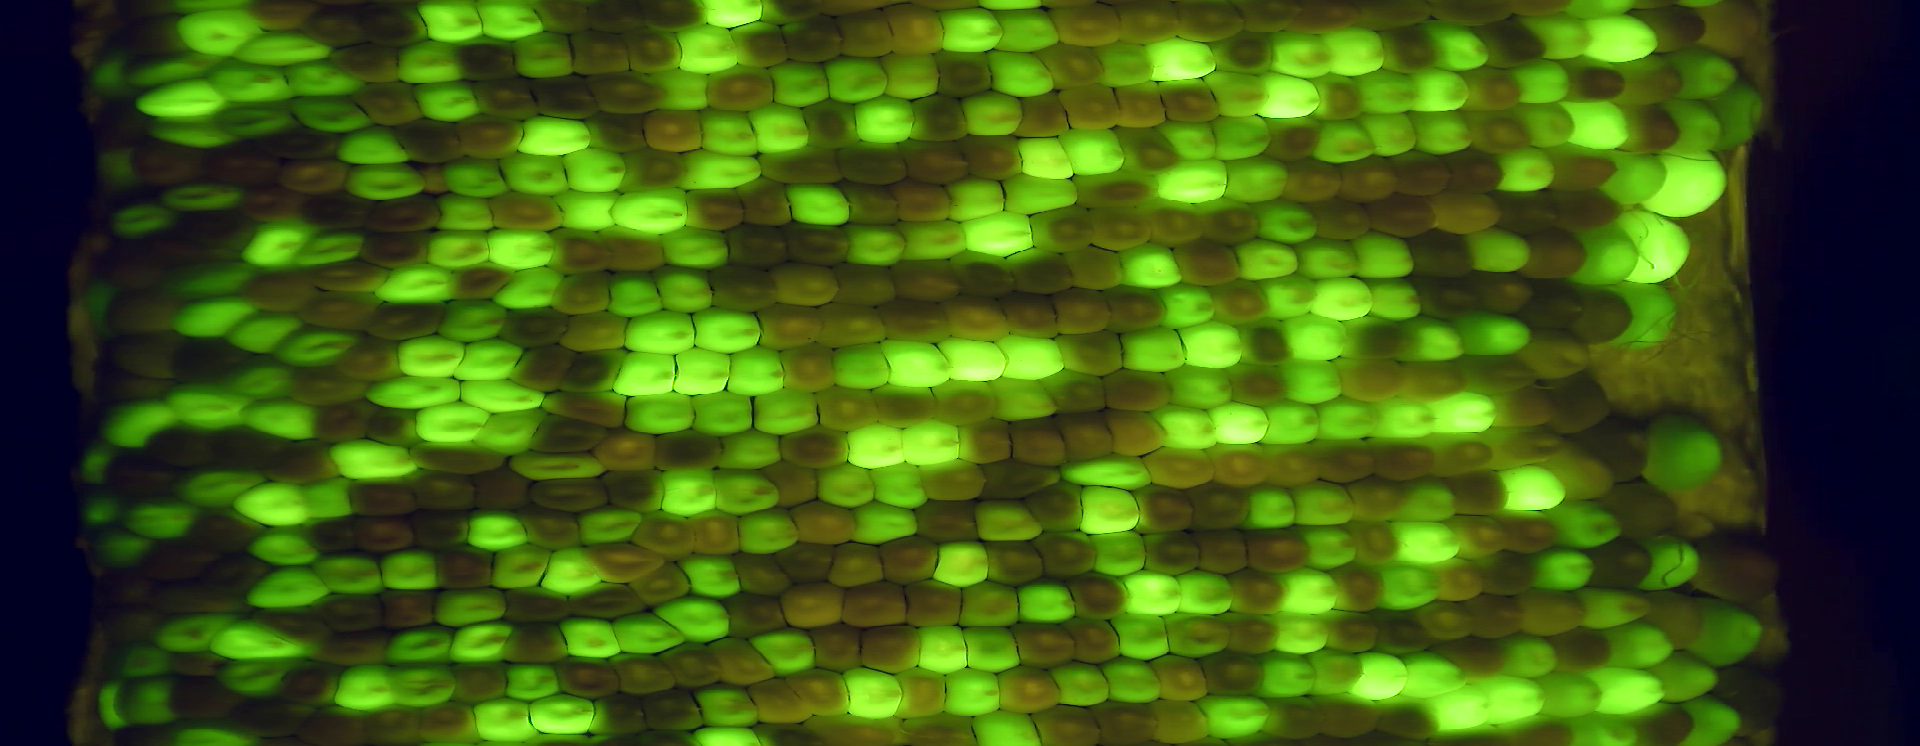fluorescent: (1644, 416, 1727, 495), (1616, 207, 1693, 285), (1687, 598, 1764, 668), (1654, 149, 1729, 219), (207, 619, 322, 661), (1611, 284, 1682, 350), (1588, 664, 1667, 718), (274, 321, 365, 367), (204, 55, 295, 102), (173, 10, 263, 56), (1647, 647, 1722, 703), (609, 185, 694, 234), (324, 435, 421, 478), (878, 336, 951, 391), (958, 208, 1041, 256), (167, 383, 253, 429), (152, 612, 244, 655), (687, 307, 769, 355), (1605, 149, 1671, 208), (680, 146, 765, 191), (549, 187, 634, 232), (138, 82, 238, 120), (1578, 224, 1640, 285), (1074, 483, 1145, 535), (504, 448, 610, 484), (1419, 20, 1491, 71), (988, 45, 1056, 100), (244, 566, 336, 606), (1544, 502, 1624, 549), (284, 92, 372, 134), (231, 481, 315, 526), (1635, 537, 1702, 590), (1586, 12, 1658, 62), (171, 299, 258, 341), (1671, 47, 1740, 99), (142, 113, 244, 148), (509, 32, 583, 81), (782, 179, 856, 228), (229, 307, 306, 354), (696, 104, 760, 159), (1558, 99, 1629, 149), (1193, 693, 1273, 737), (247, 219, 316, 271), (743, 104, 812, 156), (1665, 96, 1727, 153), (1573, 586, 1656, 628), (103, 402, 176, 450), (1113, 243, 1187, 290), (1091, 42, 1164, 89), (1453, 312, 1533, 356), (655, 597, 732, 642), (1145, 37, 1220, 83), (118, 496, 201, 538), (714, 464, 782, 514), (1270, 28, 1333, 82), (1164, 365, 1238, 412), (938, 334, 1008, 383), (175, 467, 268, 503), (1002, 173, 1081, 216), (501, 151, 572, 198), (1314, 394, 1385, 442), (749, 628, 820, 676), (1224, 156, 1292, 206), (1540, 669, 1603, 723), (1524, 12, 1597, 59), (1478, 676, 1550, 723), (842, 668, 906, 720), (1370, 563, 1446, 608), (1060, 126, 1127, 176), (216, 658, 300, 697), (609, 612, 686, 655), (1104, 612, 1176, 659), (612, 348, 680, 397), (1254, 69, 1321, 118), (1600, 624, 1675, 668), (653, 263, 716, 315), (1157, 159, 1229, 205), (240, 399, 321, 440), (408, 81, 486, 122), (456, 379, 547, 414), (280, 59, 372, 94), (670, 348, 735, 398), (943, 174, 1008, 224), (496, 268, 572, 311), (675, 27, 744, 73), (994, 7, 1064, 54), (1676, 699, 1746, 746), (364, 375, 462, 408), (228, 352, 294, 401), (658, 465, 724, 514), (1155, 404, 1222, 452), (1177, 323, 1244, 371), (658, 227, 732, 269), (1059, 457, 1160, 489), (343, 162, 430, 198), (1253, 197, 1321, 244), (958, 89, 1026, 136), (396, 334, 468, 379), (624, 310, 697, 354), (398, 40, 470, 85), (490, 541, 555, 590), (413, 404, 493, 443), (247, 529, 328, 568), (418, 1, 487, 47), (173, 263, 256, 301), (312, 555, 388, 597), (756, 388, 822, 436), (1311, 119, 1378, 167), (1401, 318, 1467, 366), (540, 544, 602, 594), (474, 410, 545, 454), (822, 56, 893, 100), (1390, 521, 1461, 565), (1409, 105, 1473, 154), (960, 624, 1024, 673), (294, 477, 358, 526), (1278, 359, 1347, 404), (936, 6, 1004, 51), (1400, 650, 1468, 696), (676, 552, 744, 598), (447, 620, 516, 665), (1352, 650, 1409, 704), (1258, 397, 1322, 445), (1014, 577, 1079, 625), (422, 227, 495, 269), (1228, 238, 1300, 281), (691, 685, 763, 728), (1296, 235, 1362, 282), (1049, 661, 1116, 708), (517, 116, 595, 156), (931, 539, 993, 588), (767, 61, 834, 107), (1499, 465, 1566, 511), (485, 225, 556, 268), (469, 699, 540, 742), (1330, 26, 1387, 78), (467, 508, 535, 552), (435, 587, 512, 626), (689, 390, 754, 436), (1207, 401, 1272, 447), (852, 97, 917, 143), (1120, 570, 1185, 616), (1359, 232, 1419, 282), (624, 391, 697, 432), (235, 33, 333, 64), (1120, 328, 1187, 374), (1433, 393, 1499, 439), (1509, 61, 1575, 107), (1280, 318, 1349, 361), (998, 334, 1065, 379), (898, 218, 971, 258), (1463, 228, 1531, 272), (973, 500, 1044, 541), (1210, 69, 1269, 119), (841, 220, 906, 266), (1294, 481, 1359, 527), (814, 463, 879, 508), (396, 664, 460, 709), (440, 299, 508, 342), (1516, 100, 1576, 149), (944, 669, 1004, 718), (851, 502, 920, 545), (332, 668, 400, 710), (1526, 549, 1600, 588), (380, 268, 459, 305), (1211, 113, 1272, 160), (869, 462, 931, 510), (381, 627, 460, 664), (736, 510, 802, 554), (1491, 152, 1561, 194), (1307, 646, 1363, 697), (1720, 85, 1766, 148), (429, 191, 500, 232), (602, 271, 667, 315), (1256, 652, 1318, 698), (563, 151, 629, 194), (334, 127, 411, 164), (214, 105, 300, 138), (1278, 570, 1344, 612), (378, 548, 444, 590), (902, 421, 965, 467), (1313, 276, 1375, 321), (1101, 659, 1163, 704), (1019, 135, 1078, 183), (1360, 110, 1419, 158), (1408, 69, 1472, 113), (121, 677, 180, 725), (478, 1, 549, 40), (1255, 274, 1320, 317), (651, 67, 713, 113), (1400, 479, 1461, 524), (966, 712, 1047, 746), (842, 425, 909, 467), (1089, 530, 1151, 575), (525, 696, 600, 733), (454, 344, 527, 382), (440, 160, 512, 198), (882, 51, 942, 97), (1176, 568, 1236, 614), (718, 428, 782, 469), (1354, 72, 1419, 114), (573, 507, 647, 544), (726, 347, 782, 394), (1369, 277, 1427, 323), (91, 527, 153, 570), (558, 615, 622, 657), (918, 625, 973, 673), (1243, 486, 1299, 533), (1375, 398, 1438, 440), (1300, 524, 1359, 568), (1431, 688, 1498, 728), (1561, 713, 1640, 746), (831, 344, 891, 387), (295, 230, 370, 265), (80, 282, 122, 341), (500, 661, 564, 699), (1156, 288, 1218, 327), (1500, 637, 1559, 679), (1160, 120, 1223, 158), (127, 55, 217, 82), (1275, 612, 1329, 657), (159, 183, 242, 209), (109, 203, 176, 236), (91, 58, 140, 102), (96, 145, 140, 192), (703, 1, 770, 29), (173, 725, 261, 746), (94, 681, 129, 730), (125, 646, 176, 677), (694, 724, 764, 746), (1569, 1, 1640, 21), (174, 1, 253, 18), (78, 447, 114, 484), (82, 494, 122, 526), (981, 1, 1056, 17), (1671, 1, 1720, 11)
nonfluorescent: (1714, 668, 1788, 739), (1581, 416, 1651, 486), (1544, 437, 1615, 502), (1692, 541, 1776, 597), (1603, 483, 1681, 537), (165, 334, 257, 379), (405, 439, 512, 477), (168, 669, 242, 723), (108, 454, 187, 502), (582, 543, 669, 586), (1569, 288, 1635, 344), (1032, 528, 1104, 579), (632, 511, 700, 565), (143, 228, 240, 266), (778, 579, 849, 631), (829, 260, 901, 310), (207, 426, 291, 469), (540, 390, 629, 430), (1551, 375, 1611, 435), (1548, 145, 1621, 194), (251, 601, 328, 648), (758, 145, 844, 186), (1363, 192, 1438, 240), (336, 333, 410, 381), (1476, 20, 1548, 69), (585, 70, 667, 113), (780, 423, 853, 470), (869, 381, 939, 431), (1614, 55, 1680, 108), (707, 635, 778, 684), (96, 364, 184, 403), (454, 111, 527, 159), (1407, 225, 1476, 276), (1098, 405, 1167, 456), (549, 655, 624, 701), (940, 296, 1010, 345), (899, 137, 969, 186), (1584, 541, 1654, 590), (958, 132, 1029, 180), (1522, 230, 1589, 281), (1020, 481, 1087, 532), (1053, 330, 1125, 376), (108, 290, 184, 334), (840, 581, 910, 628), (858, 624, 924, 674), (1625, 100, 1682, 158), (529, 73, 600, 120), (1638, 6, 1709, 53), (1089, 699, 1160, 746), (785, 668, 852, 717), (768, 262, 842, 306), (882, 2, 945, 54), (1521, 278, 1584, 330), (135, 140, 207, 185), (709, 265, 781, 310), (288, 365, 369, 405), (1052, 410, 1117, 461), (393, 118, 469, 160), (876, 300, 951, 343), (1141, 445, 1217, 488), (977, 461, 1063, 499), (889, 258, 962, 303), (1087, 205, 1153, 254), (1704, 1, 1760, 60), (267, 439, 340, 483), (1113, 1, 1184, 47), (144, 428, 224, 468), (204, 143, 282, 185), (148, 583, 257, 612), (835, 142, 910, 185), (1131, 484, 1195, 534), (819, 300, 888, 347), (360, 1, 432, 45), (600, 224, 665, 273), (838, 176, 902, 225), (1562, 55, 1627, 104), (1644, 593, 1702, 648), (300, 290, 378, 331), (186, 511, 264, 551), (309, 593, 387, 633), (947, 252, 1016, 298), (1243, 527, 1313, 572), (181, 207, 257, 249), (1029, 704, 1104, 746), (1194, 197, 1260, 245), (1553, 186, 1626, 229), (982, 534, 1044, 584), (1333, 356, 1404, 401), (298, 708, 380, 746), (1173, 240, 1242, 285), (1494, 190, 1562, 235), (798, 99, 863, 147), (997, 293, 1062, 341), (1428, 189, 1500, 232), (1102, 367, 1174, 410), (110, 332, 182, 375), (1010, 416, 1070, 468), (756, 304, 825, 348), (1101, 284, 1167, 331), (1007, 247, 1076, 292), (599, 469, 669, 513), (609, 650, 678, 695), (369, 298, 444, 338), (913, 462, 989, 502), (650, 430, 724, 472), (1008, 622, 1075, 668), (411, 469, 479, 514), (658, 642, 725, 687), (1049, 4, 1120, 47), (1464, 109, 1536, 152), (1521, 334, 1592, 377), (911, 499, 982, 541), (502, 622, 571, 666), (747, 681, 816, 725), (315, 631, 394, 669), (1520, 589, 1584, 636), (1187, 483, 1251, 529), (301, 189, 373, 230), (1228, 570, 1289, 619), (933, 379, 999, 424), (468, 469, 534, 514), (1464, 269, 1534, 312), (1341, 156, 1403, 203), (878, 537, 940, 584), (901, 581, 964, 628), (508, 344, 571, 392), (997, 668, 1064, 712), (549, 227, 612, 273), (1176, 1, 1247, 43), (1060, 86, 1125, 131), (1073, 173, 1158, 207), (804, 622, 864, 671), (681, 187, 747, 232), (814, 386, 880, 430), (99, 601, 165, 646), (525, 414, 607, 450), (1027, 209, 1097, 251), (1414, 277, 1484, 318), (1463, 593, 1526, 639), (631, 559, 693, 605), (1447, 470, 1511, 516), (1062, 617, 1125, 663), (247, 271, 321, 310), (486, 192, 564, 229), (1264, 439, 1322, 488), (1460, 355, 1540, 391), (786, 503, 857, 544), (1118, 125, 1178, 173), (567, 29, 632, 73), (722, 594, 787, 638), (527, 477, 610, 511), (435, 544, 496, 590), (804, 717, 901, 746), (621, 148, 687, 191), (1398, 356, 1464, 399), (1044, 370, 1111, 413), (572, 583, 649, 620), (500, 307, 572, 347), (1488, 388, 1560, 428), (1207, 442, 1270, 488), (705, 69, 775, 109), (206, 552, 276, 593), (778, 343, 835, 392), (643, 109, 707, 153), (622, 28, 686, 72), (735, 180, 795, 227), (1068, 570, 1128, 616), (760, 461, 820, 507), (349, 479, 422, 517), (1433, 639, 1506, 677), (331, 45, 402, 85), (96, 243, 167, 282), (364, 196, 442, 232), (782, 220, 847, 263), (585, 111, 650, 154), (473, 77, 538, 120), (731, 23, 792, 69), (934, 51, 996, 97), (1550, 628, 1611, 674), (1053, 290, 1116, 334), (1495, 508, 1558, 552), (955, 421, 1018, 465), (1142, 530, 1205, 575), (775, 541, 838, 586), (730, 552, 792, 597), (1149, 657, 1211, 701), (1379, 26, 1436, 73), (353, 83, 422, 122), (1038, 45, 1108, 85), (564, 345, 623, 392), (370, 403, 429, 450), (1281, 158, 1344, 201), (448, 663, 512, 706), (362, 229, 430, 269), (563, 312, 631, 353), (1282, 1, 1364, 34), (724, 224, 789, 266), (1307, 198, 1371, 240), (1346, 317, 1411, 359), (1442, 149, 1504, 194), (1152, 697, 1213, 741), (124, 18, 195, 56), (276, 156, 351, 191), (242, 697, 313, 735), (304, 7, 372, 47), (1194, 528, 1251, 575), (1416, 597, 1478, 639), (1202, 653, 1265, 696), (1063, 246, 1122, 292), (1145, 200, 1204, 245), (144, 539, 219, 575), (1348, 480, 1412, 522), (353, 513, 416, 555), (98, 94, 149, 146), (1209, 279, 1269, 323), (1449, 514, 1509, 559), (285, 661, 345, 706), (1267, 115, 1322, 163), (519, 507, 580, 550), (1371, 612, 1436, 653), (502, 586, 576, 621), (1158, 80, 1221, 121), (313, 401, 376, 442), (910, 96, 969, 140), (1393, 151, 1452, 195), (1462, 69, 1522, 111), (829, 541, 884, 588), (552, 272, 613, 314), (640, 691, 702, 733), (595, 431, 658, 472), (411, 507, 474, 548), (1493, 431, 1566, 465), (896, 670, 948, 719), (689, 510, 743, 556), (891, 179, 951, 220), (1016, 96, 1071, 141), (242, 183, 306, 222), (1262, 699, 1326, 739), (1319, 695, 1380, 735), (1633, 706, 1695, 746), (313, 260, 391, 292), (258, 131, 345, 159), (456, 40, 518, 80), (1215, 31, 1273, 72), (1220, 612, 1278, 654), (789, 16, 842, 61), (838, 13, 893, 58), (1343, 521, 1398, 565), (1229, 366, 1291, 405), (1322, 610, 1380, 652), (1331, 566, 1382, 612), (1380, 702, 1442, 740), (453, 265, 517, 301), (1433, 439, 1496, 475), (1314, 75, 1365, 120), (902, 715, 978, 746), (1240, 318, 1293, 363), (1318, 446, 1378, 484), (1479, 552, 1536, 593), (380, 588, 436, 628), (422, 703, 480, 742), (371, 704, 426, 745), (1374, 442, 1436, 478), (1358, 1, 1431, 31), (1436, 559, 1487, 601), (595, 695, 651, 733), (1116, 85, 1167, 125), (252, 1, 320, 32), (1240, 1, 1300, 36), (310, 521, 364, 557), (99, 565, 149, 604), (1430, 1, 1515, 24), (587, 1, 647, 32), (1755, 624, 1794, 670), (647, 1, 708, 31), (168, 649, 230, 677), (1511, 718, 1573, 746), (542, 1, 589, 36), (763, 725, 839, 746), (113, 723, 180, 746), (414, 160, 453, 198), (114, 1, 174, 26), (811, 1, 911, 13), (599, 734, 699, 746), (758, 1, 817, 22), (1510, 1, 1571, 20), (1444, 731, 1513, 746), (258, 735, 318, 746), (916, 1, 981, 11), (1629, 1, 1675, 15), (1184, 737, 1224, 746)
